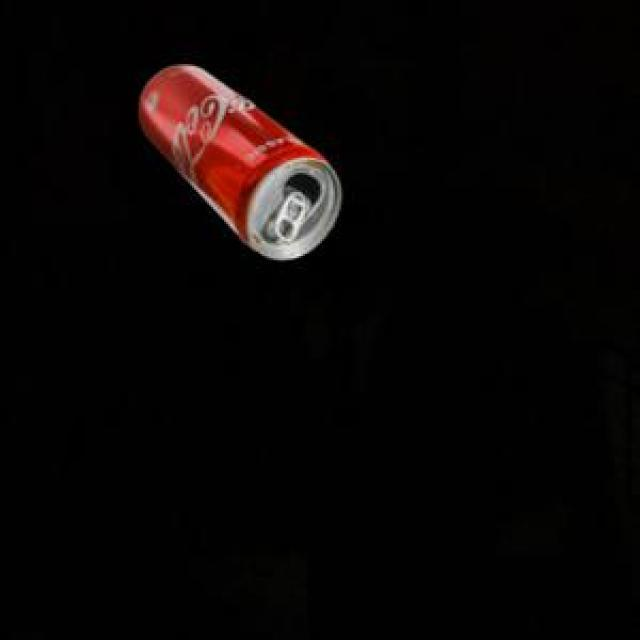Can: (135, 63, 338, 257)
